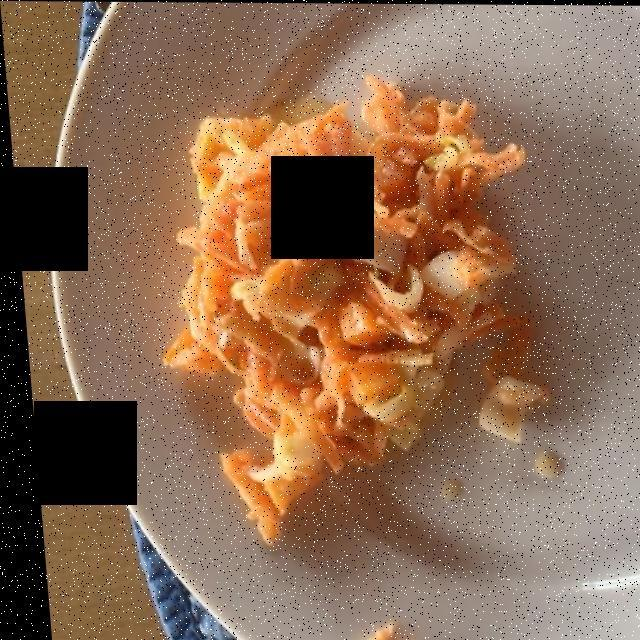carrot: (147, 70, 513, 545)
witloof-chicory: (248, 212, 529, 477)
